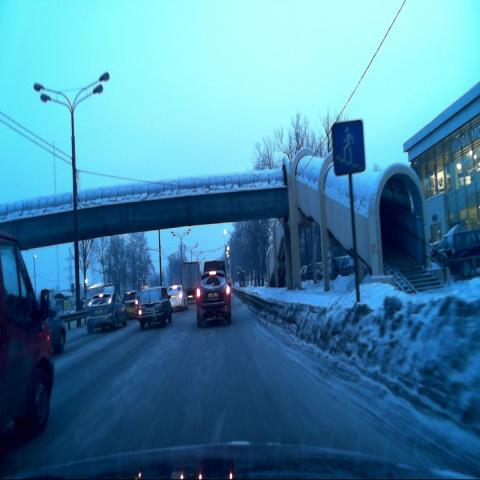6_7: (331, 120, 365, 176)
